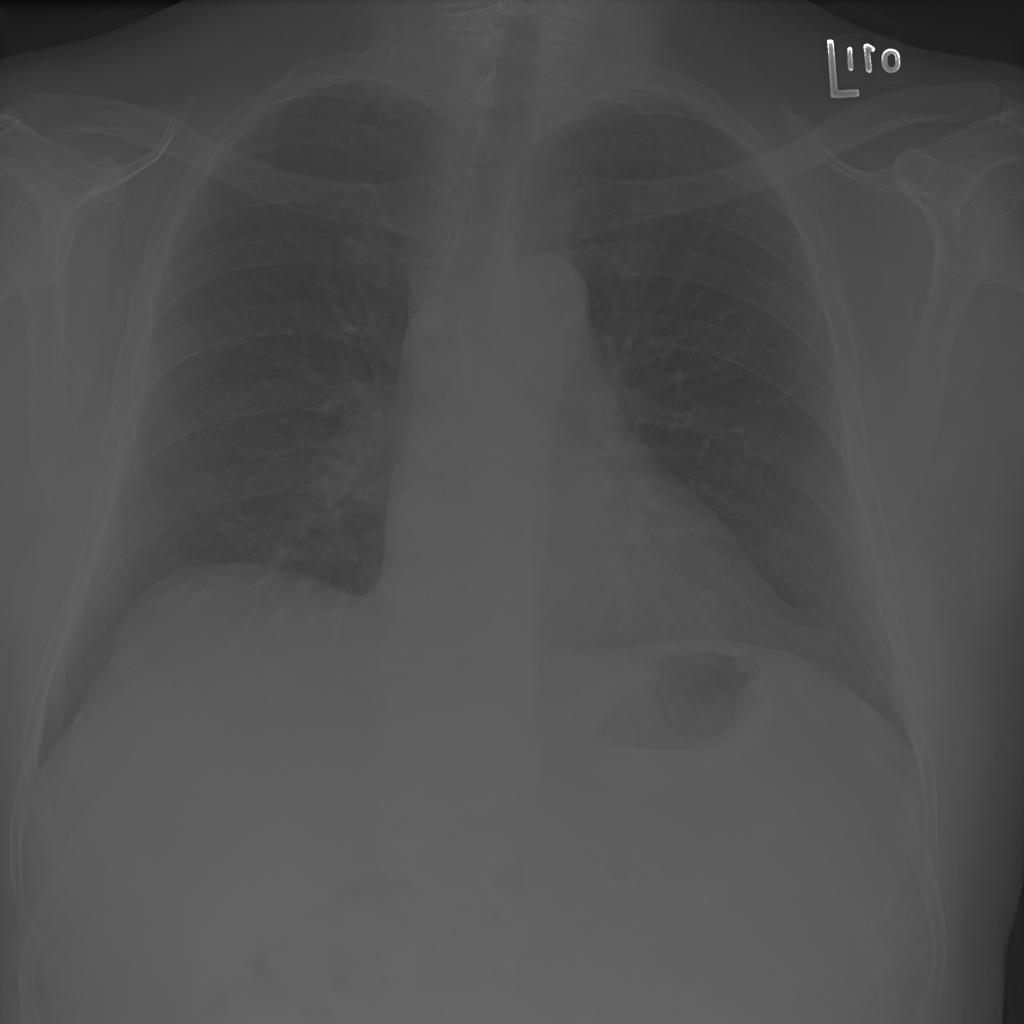Nodule: (416, 309, 453, 344), (409, 267, 441, 296)
